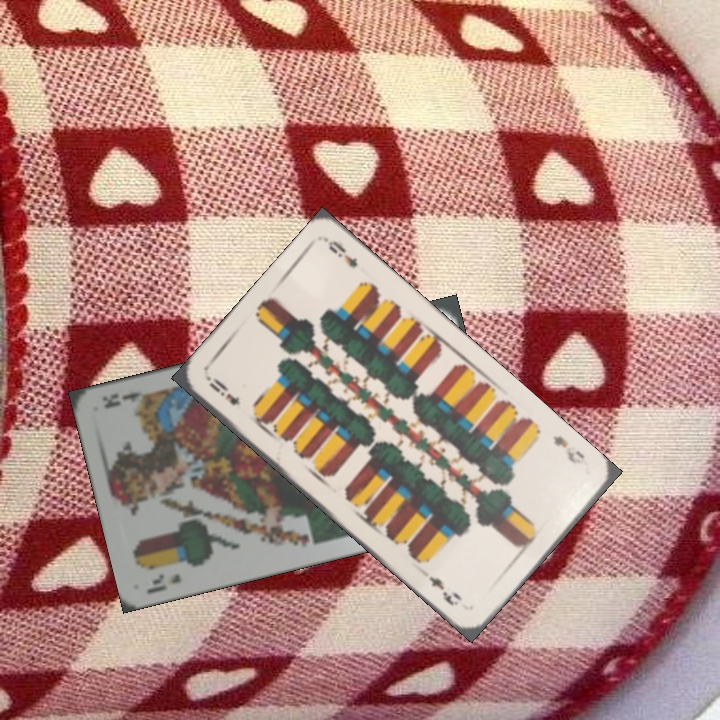E9: (549, 431, 589, 472), (203, 373, 243, 408)
EK: (143, 569, 184, 596)
